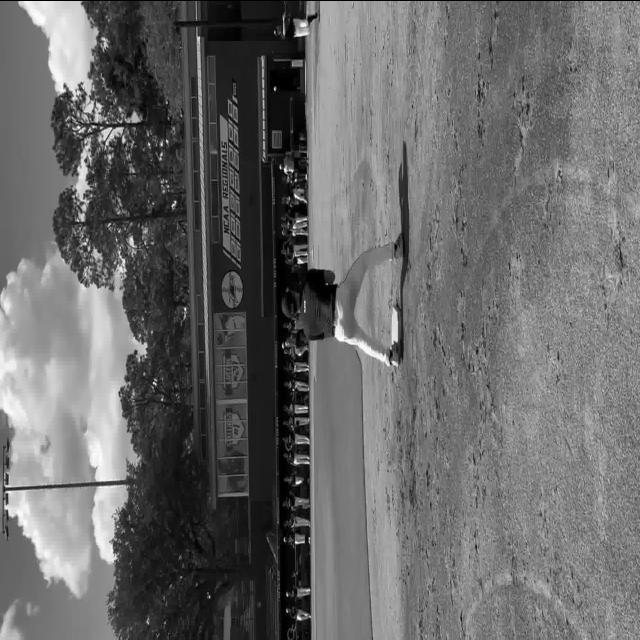base: (389, 304, 402, 367)
baseball: (274, 84, 278, 91)
shoe: (388, 340, 401, 367), (394, 231, 405, 260)
